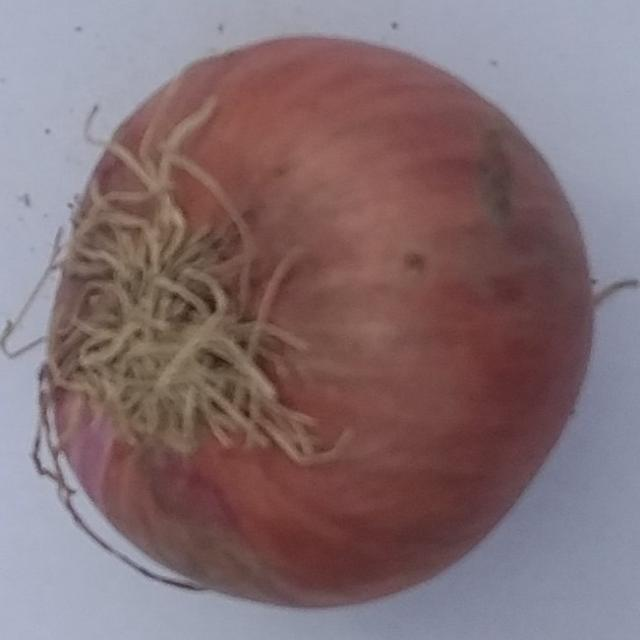onion: (9, 30, 638, 613)
